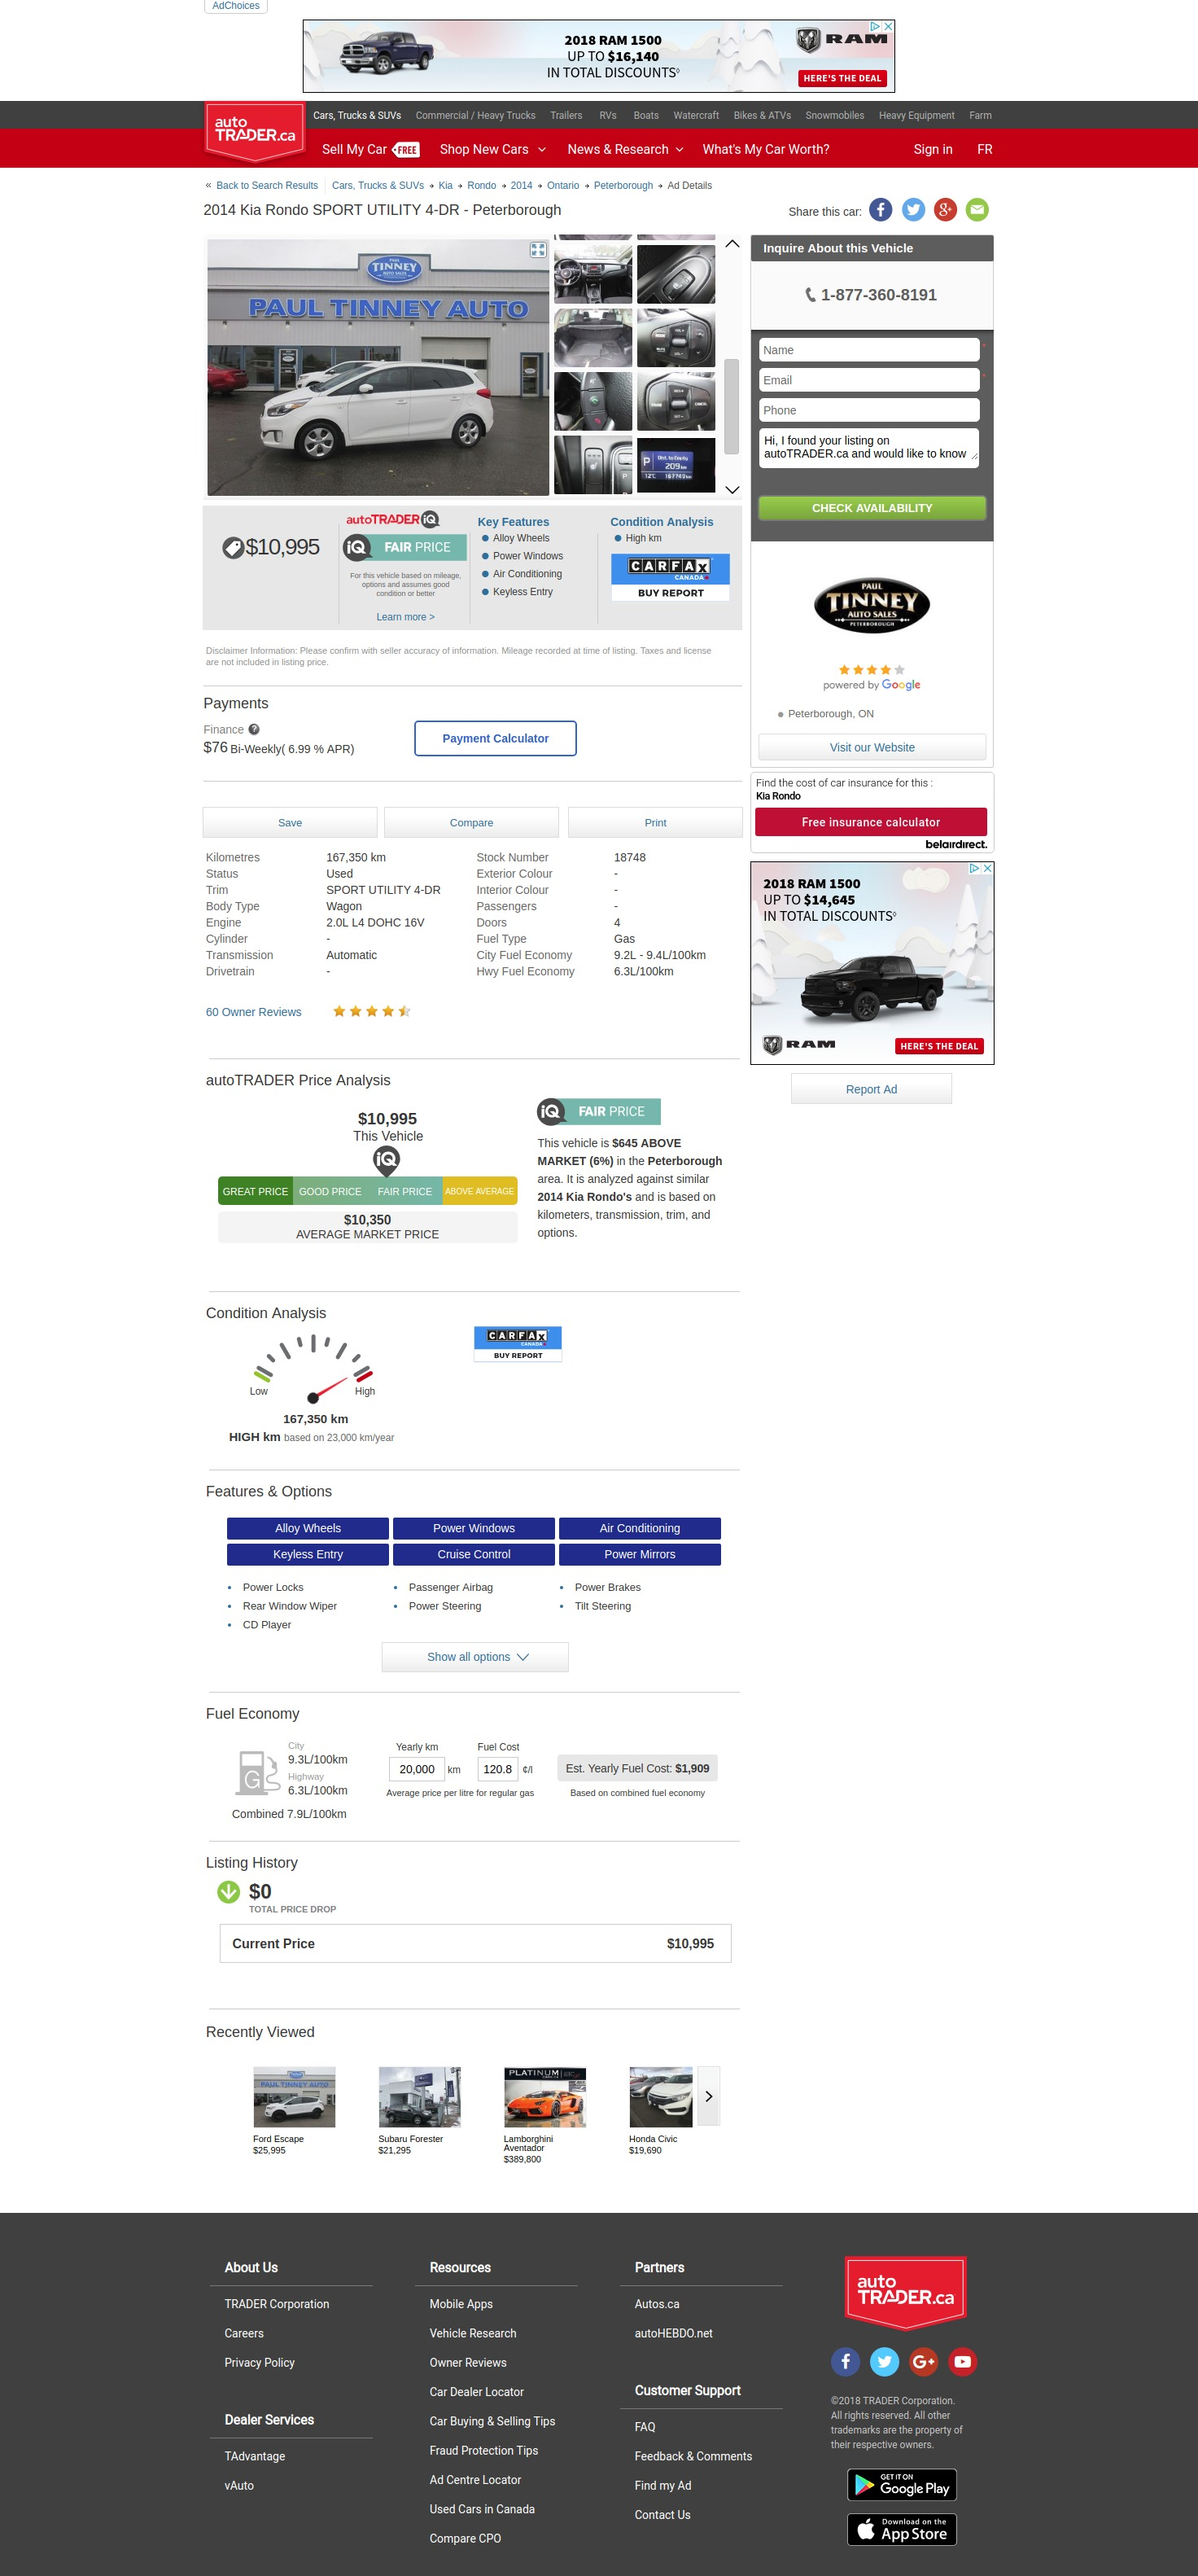car: (725, 485, 741, 496)
